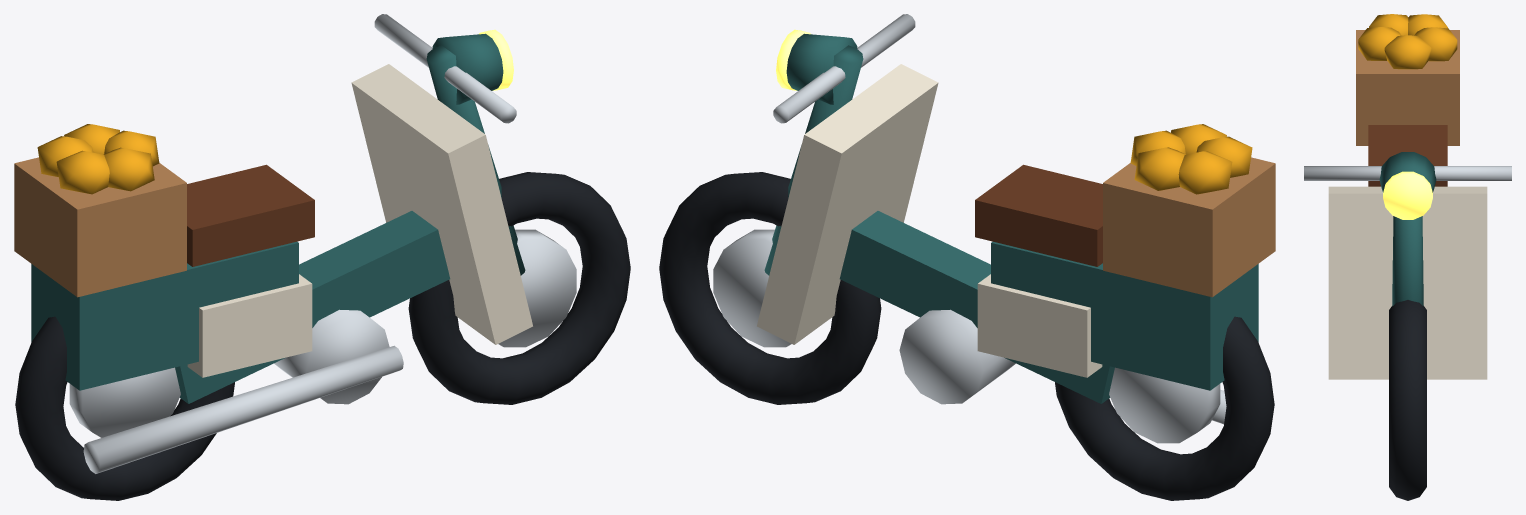
File: vintage_cub50.glb
3 renders of one model, left to right at view 1: azimuth 30°, elevation 25°; view 2: azimuth 150°, elevation 25°; view 3: azimuth 270°, elevation 25°, orthographic. The views are drawn at different scales.
Visible parts, largest first — view 1: VintageCub50; view 2: VintageCub50; view 3: VintageCub50.
Boxes of the visible parts, bbox=[...] form: VintageCub50: bbox=[14, 14, 630, 500]; VintageCub50: bbox=[659, 14, 1275, 500]; VintageCub50: bbox=[1304, 14, 1511, 500].
Bounding box in the file's own units: 1.89 × 1.12 × 0.68.
